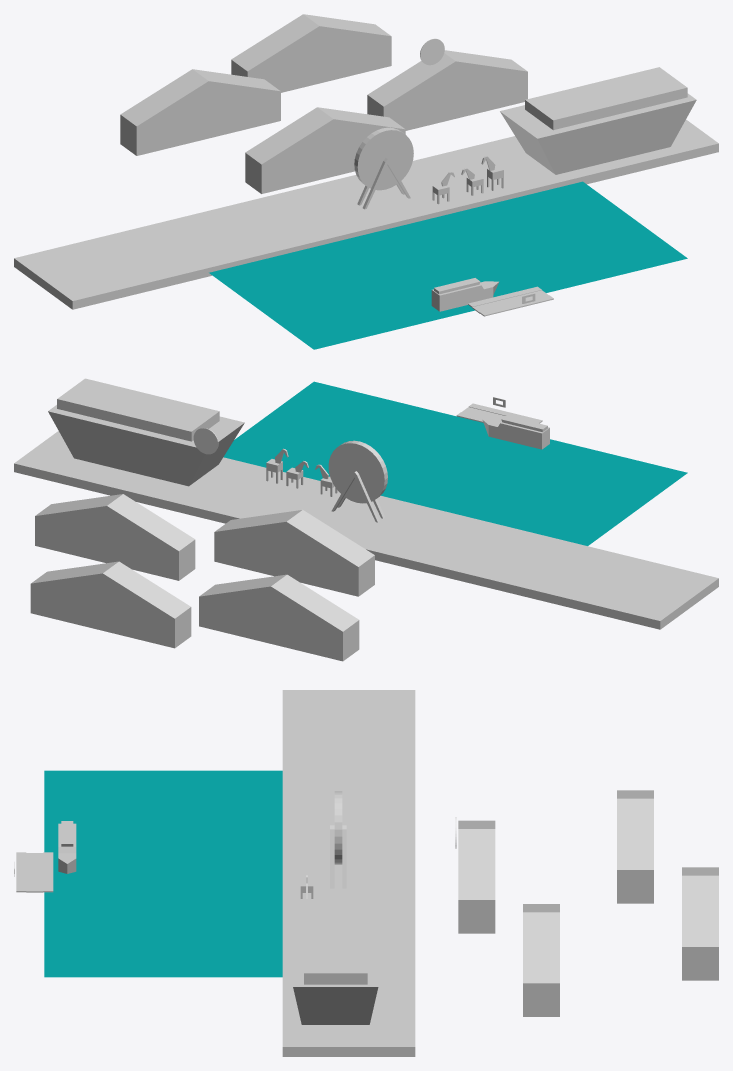
Rendered from nabrzeze.fbx.
3 views of the same model, one above another, from view 1: azimuth 30°, elevation 25°; view 2: azimuth 150°, elevation 25°; view 3: azimuth 270°, elevation 25° (orthographic). The views are drawn at different scales.
Parts seen in each view (by area): view 1: Plane, Cube.005, Cube.009, Cube.014, Cube.012, Cube.013, Cube.011, Cylinder, Cube.002, Cube.004; view 2: Cube.005, Plane, Cube.009, Cube.013, Cube.014, Cube.012, Cube.011, Cylinder, Cube.002, Cylinder.001, Cube.004; view 3: Plane, Cube.005, Cube.009, Cube.011, Cube.013, Cube.014, Cube.012, Cylinder, Cube.002, Cube.004, Cube.003.
Part boxes in pixels (<box>): Plane: <box>209,181,687,349</box>; Cube.005: <box>14,119,718,309</box>; Cube.009: <box>500,67,696,174</box>; Cube.014: <box>120,69,280,155</box>; Cube.012: <box>367,50,527,130</box>; Cube.013: <box>231,14,391,92</box>; Cube.011: <box>245,107,405,193</box>; Cylinder: <box>354,127,413,209</box>; Cube.002: <box>431,278,498,311</box>; Cube.004: <box>468,286,553,316</box>; Cube.005: <box>14,431,718,629</box>; Plane: <box>223,381,687,545</box>; Cube.009: <box>48,378,244,486</box>; Cube.013: <box>30,561,191,648</box>; Cube.014: <box>199,574,359,661</box>; Cube.012: <box>35,494,195,580</box>; Cube.011: <box>214,510,374,596</box>; Cylinder: <box>328,440,387,522</box>; Cube.002: <box>482,415,549,449</box>; Cylinder.001: <box>193,428,218,454</box>; Cube.004: <box>456,403,542,423</box>; Plane: <box>44,770,282,977</box>; Cube.005: <box>282,690,415,1056</box>; Cube.009: <box>293,899,378,1024</box>; Cube.011: <box>458,820,495,933</box>; Cube.013: <box>682,867,718,980</box>; Cube.014: <box>617,790,653,903</box>; Cube.012: <box>523,904,559,1016</box>; Cylinder: <box>330,791,346,888</box>; Cube.002: <box>58,821,76,873</box>; Cube.004: <box>16,852,53,892</box>; Cube.003: <box>26,853,43,892</box>.
Bounding box in the file's own units: 17856 × 3018 × 14904.
